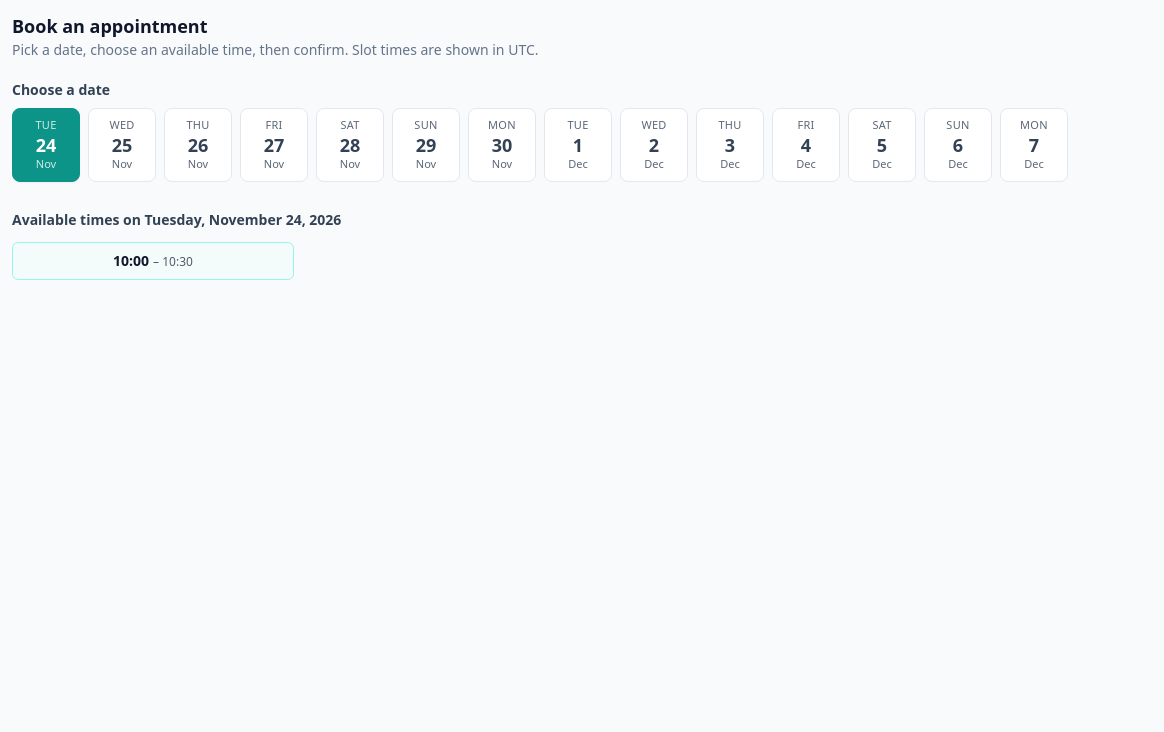
Scenario: BookingSection › books an available slot after an explicit confirmation step
This screenshot has width=1164, height=732.
Click the button with aria-label "select ": (122, 145) [88,108,156,182]
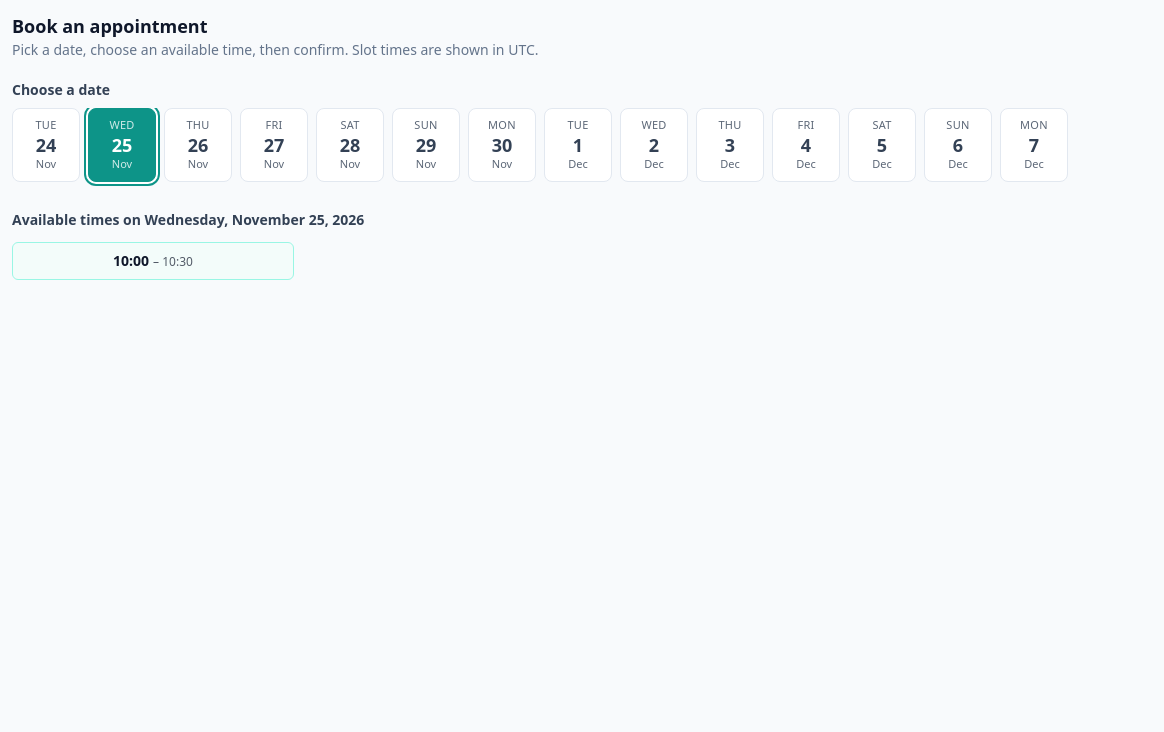
Click the button named "book 10:00 to 10:30": (153, 260) [12,242,294,280]
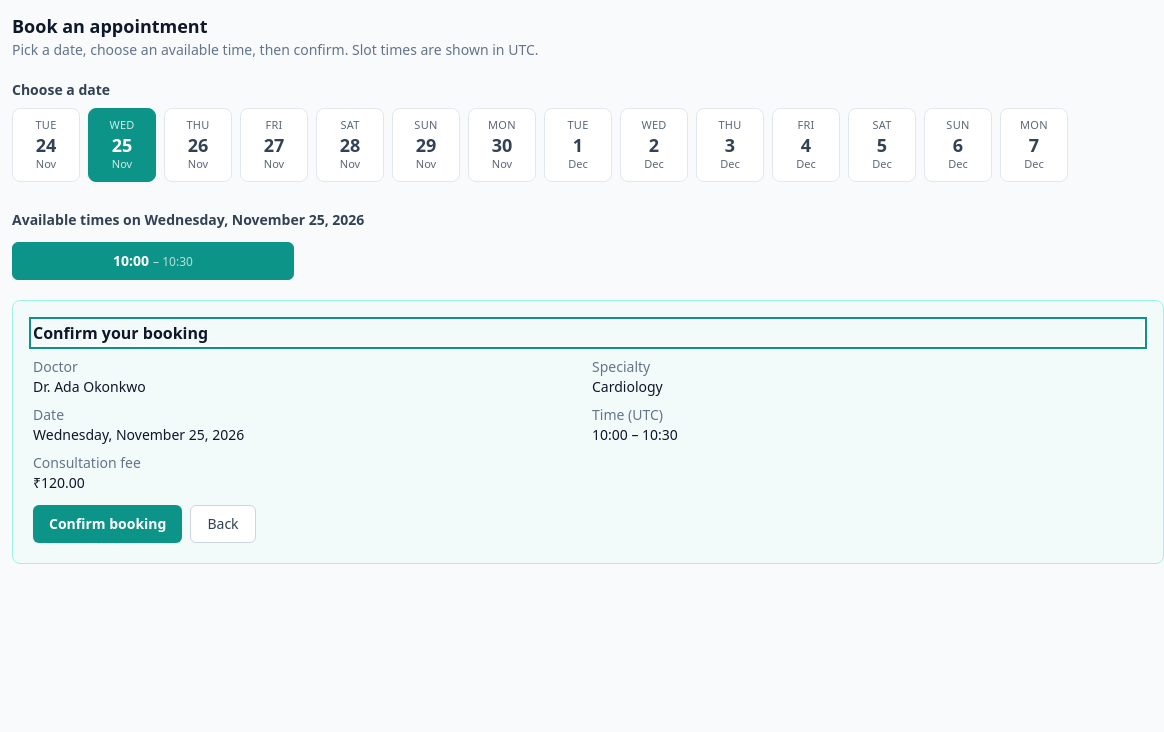
Expected: the heading "Confirm your booking" is shown, [33,320,1143,344]
Click the button "Confirm booking": (108, 524) [33,504,182,542]
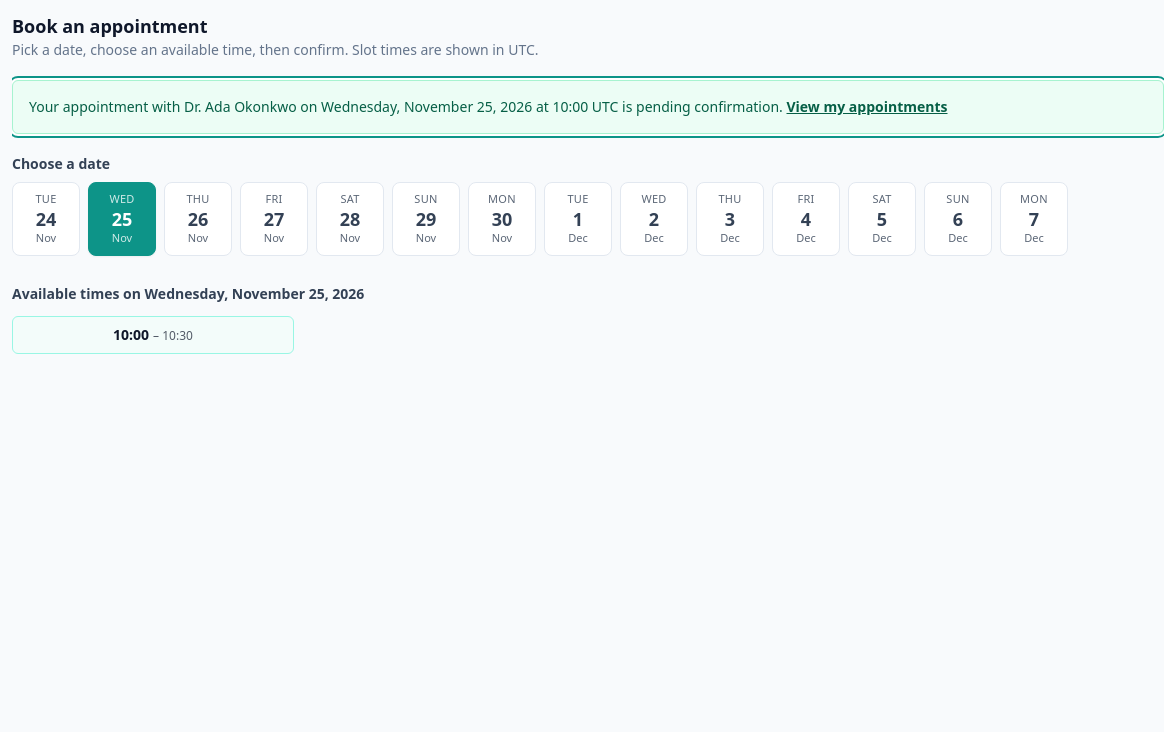
Expected: the text "pending confirmation" is shown, [29,97,783,116]
Expected: the link "View my appointments" is shown, [786,97,948,116]
